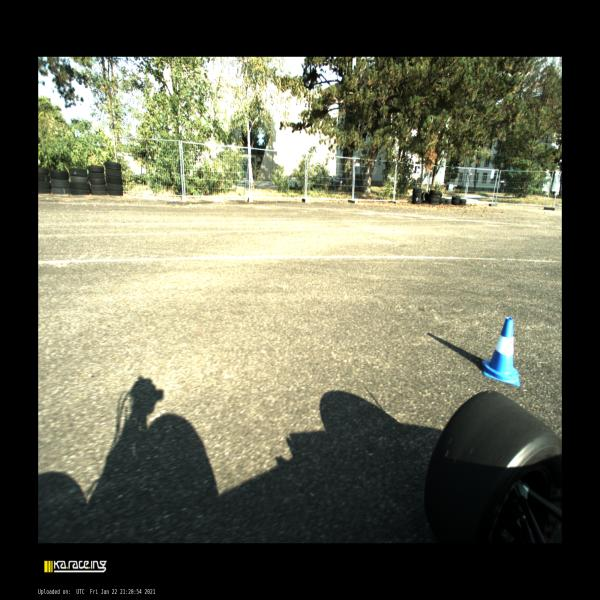blue_cone: (482, 317, 520, 386)
